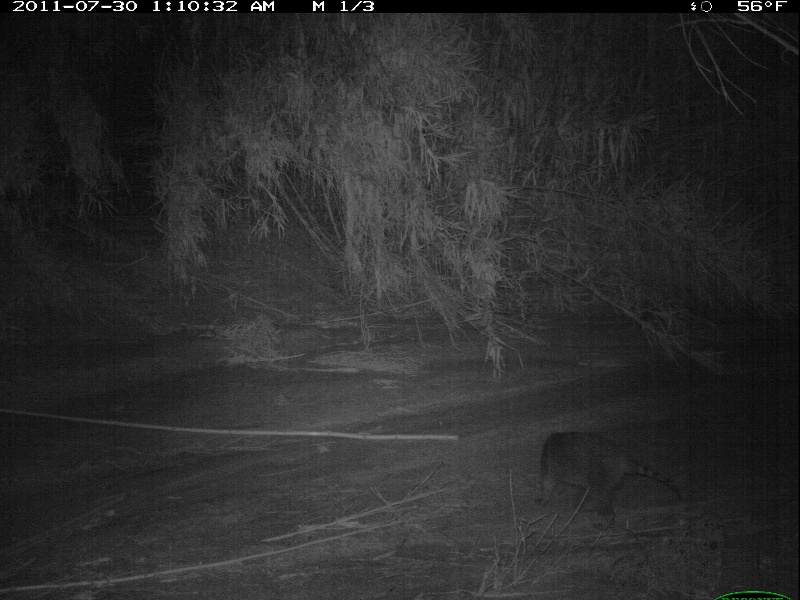raccoon: (536, 425, 681, 536)
